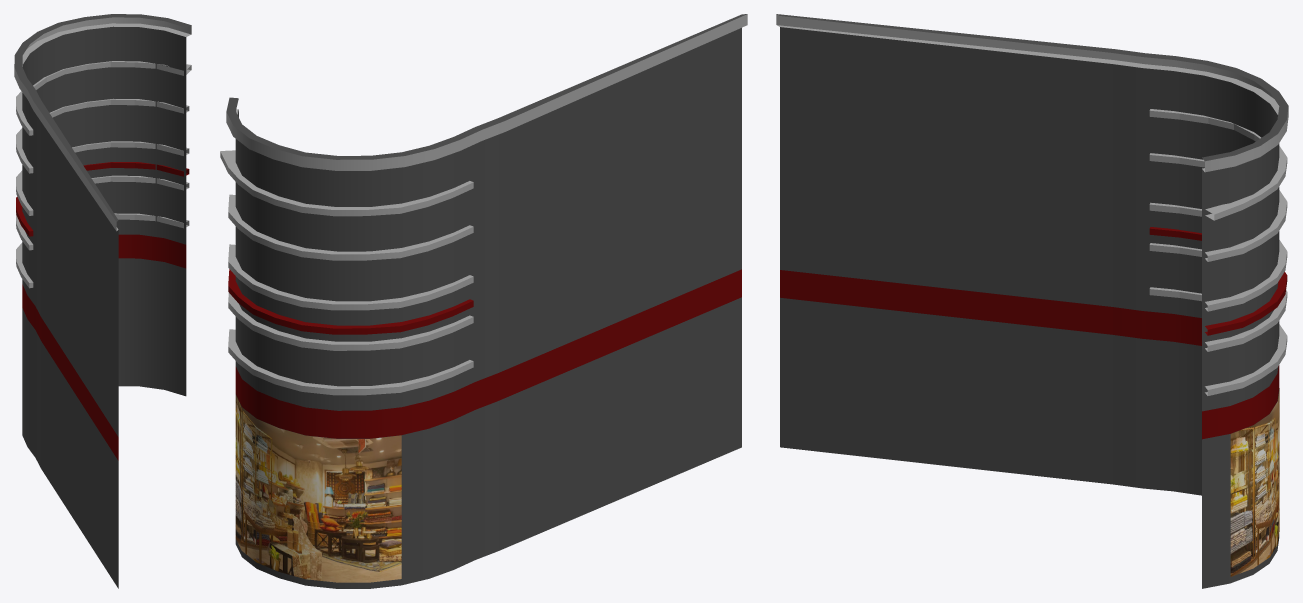
The model's file is FABINDIA fbx.fbx.
3 renders of one model, left to right at view 1: azimuth 30°, elevation 25°; view 2: azimuth 150°, elevation 25°; view 3: azimuth 270°, elevation 25°, orthographic. The views are drawn at different scales.
Parts seen in each view (by area): view 1: polySurface16, polySurface10, polySurface3; view 2: polySurface16, polySurface13, polySurface10, polySurface3; view 3: polySurface16, polySurface10, polySurface13, polySurface3.
Boxes of the visible parts, x1,y1,x2,y2 form: polySurface16: [14, 14, 191, 588]; polySurface10: [16, 61, 191, 288]; polySurface3: [16, 162, 189, 236]; polySurface16: [226, 14, 747, 588]; polySurface13: [235, 395, 401, 582]; polySurface10: [220, 150, 473, 395]; polySurface3: [228, 269, 473, 334]; polySurface16: [776, 14, 1288, 588]; polySurface10: [1149, 109, 1287, 395]; polySurface13: [1230, 388, 1279, 576]; polySurface3: [1149, 227, 1287, 335].
Bounding box in the file's own units: 13.76 × 18.51 × 19.92.
4 materials, 1 textured.
